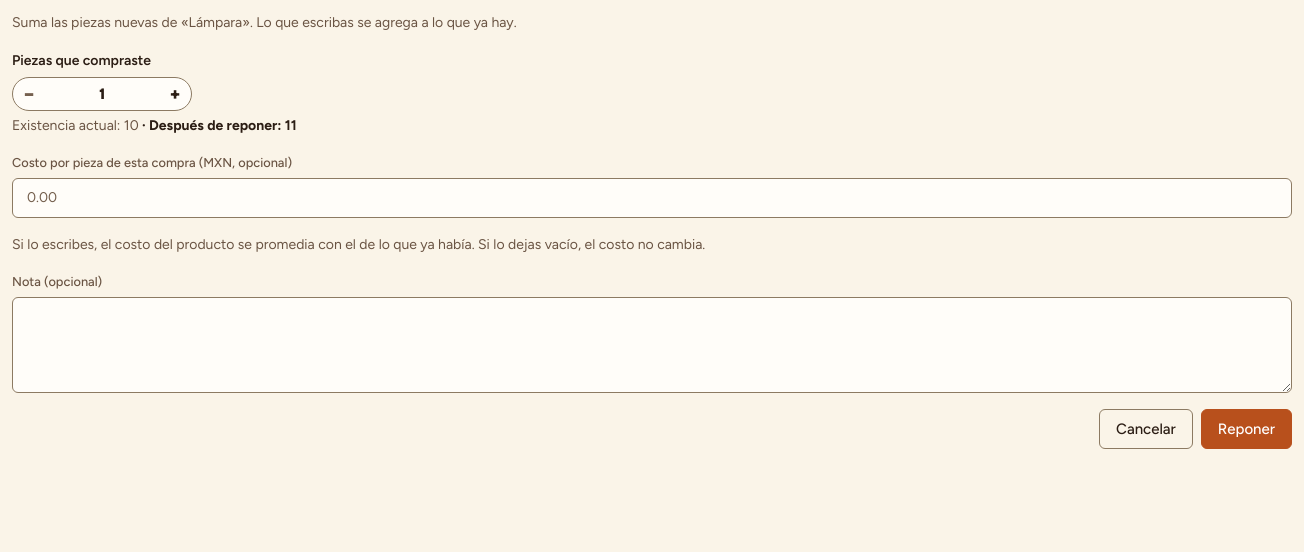
Scenario: ProductRestockForm › validación (no manda nada y marca el campo) › cantidad 0
Replace the text in the number field named "Cantidad de Lámpara" with "0" at (102, 94), box [45, 78, 159, 110]
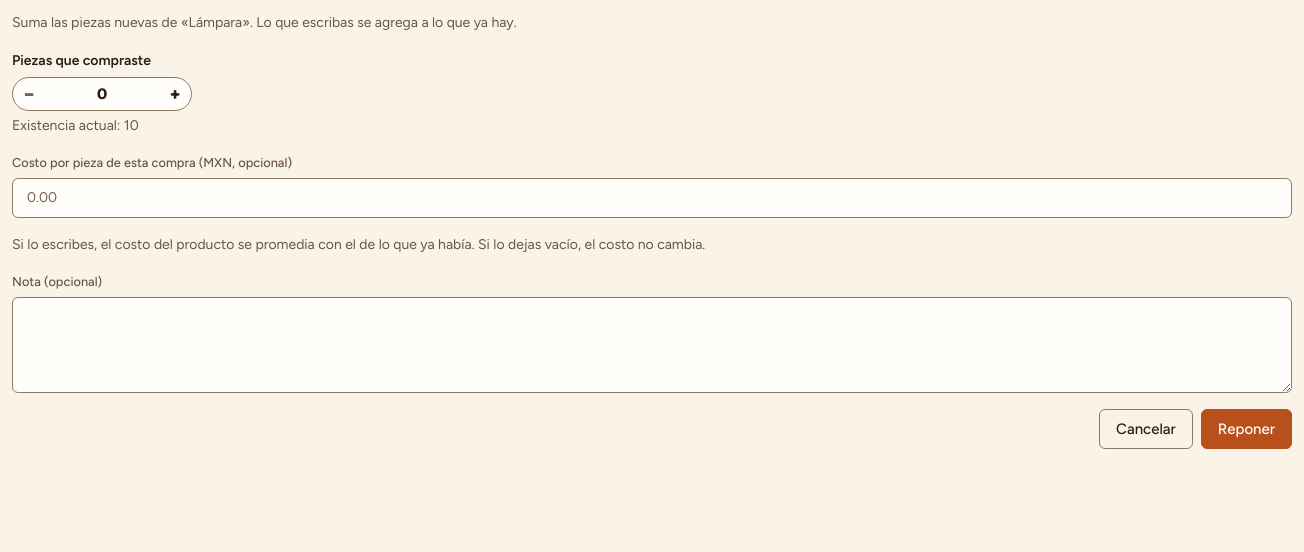
Submit the form
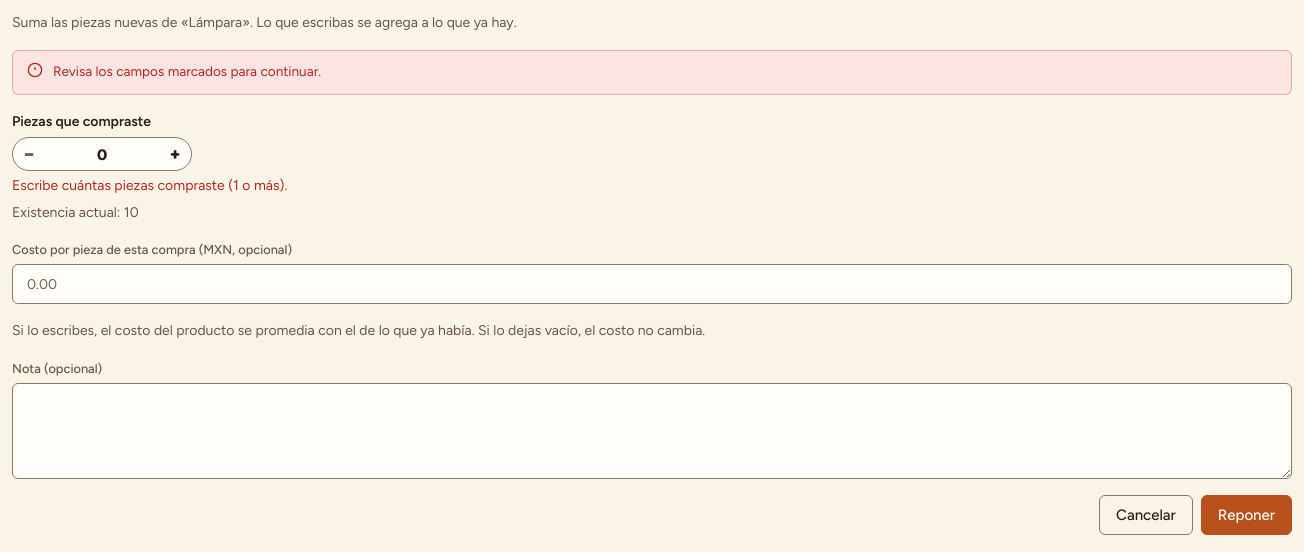
Check: the text "Escribe cuántas piezas compraste (1 o más)." is shown, box [12, 175, 287, 198]
Check: the text "Revisa los campos marcados para continuar." is shown, box [53, 63, 321, 79]
